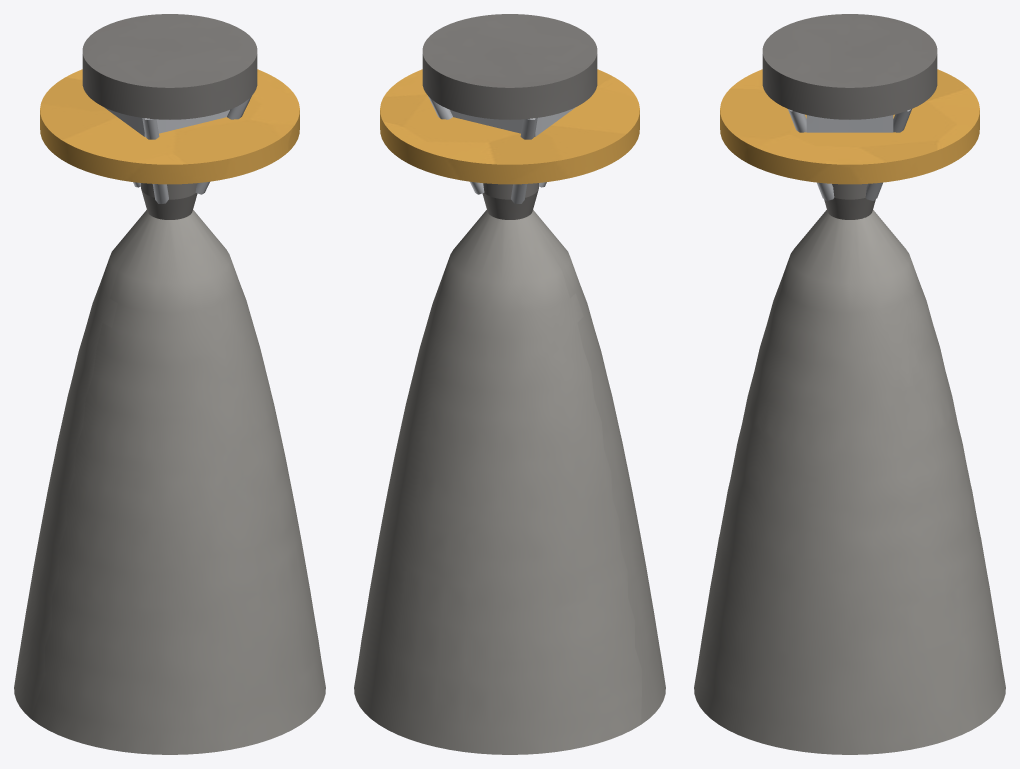
Rendered from prop20_apogee_engine.glb.
The picture shows the model from 3 angles, left to right: view 1: azimuth 30°, elevation 25°; view 2: azimuth 150°, elevation 25°; view 3: azimuth 270°, elevation 25°; orthographic projection.
Parts seen in each view (by area): view 1: bell, heat_shield, mount, chamber, thrust_struts, valve_block; view 2: bell, heat_shield, mount, chamber, thrust_struts, valve_block; view 3: bell, heat_shield, mount, chamber, valve_block, thrust_struts.
Boxes of the visible parts, <box> form: bell: <box>14,210,325,754</box>; heat_shield: <box>40,69,299,184</box>; mount: <box>82,14,257,119</box>; chamber: <box>141,183,197,219</box>; thrust_struts: <box>133,96,251,203</box>; valve_block: <box>104,107,229,136</box>; bell: <box>354,210,665,754</box>; heat_shield: <box>380,69,639,184</box>; mount: <box>422,14,597,119</box>; chamber: <box>482,183,538,219</box>; thrust_struts: <box>428,96,546,203</box>; valve_block: <box>450,107,575,136</box>; bell: <box>694,210,1005,754</box>; heat_shield: <box>720,69,979,184</box>; mount: <box>762,14,937,119</box>; chamber: <box>824,184,875,219</box>; valve_block: <box>806,115,893,132</box>; thrust_struts: <box>788,109,911,200</box>.
Size of the model in its own units: 0.2878 by 0.65 by 0.2879.
Materials: 4 (4 with a texture image).
